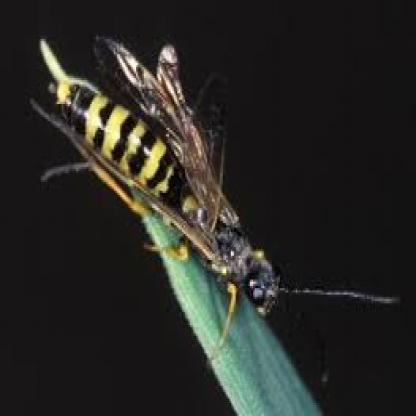sawfly: (38, 23, 300, 365)
